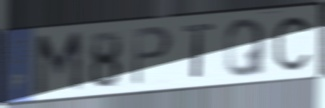8: (88, 29, 124, 91)
C: (271, 14, 312, 74)
M: (33, 28, 85, 99)
P: (131, 23, 175, 89)
Q: (223, 16, 269, 80)
T: (182, 21, 217, 81)
